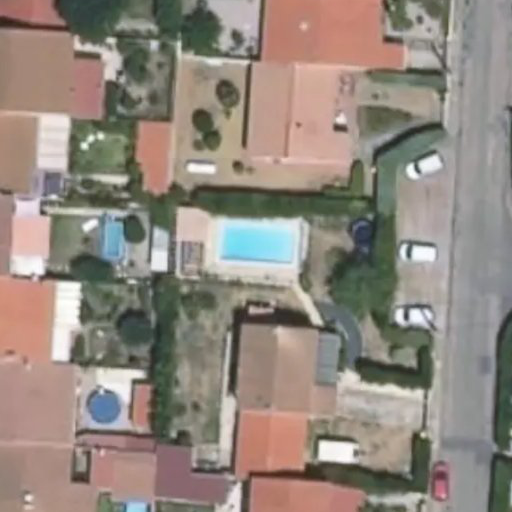pool: (220, 220, 299, 264), (88, 389, 121, 422), (103, 222, 124, 259)
